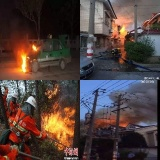fire: (41, 105, 76, 150), (44, 83, 59, 100), (94, 120, 126, 127), (21, 52, 30, 73), (120, 25, 126, 33), (32, 44, 37, 53)
